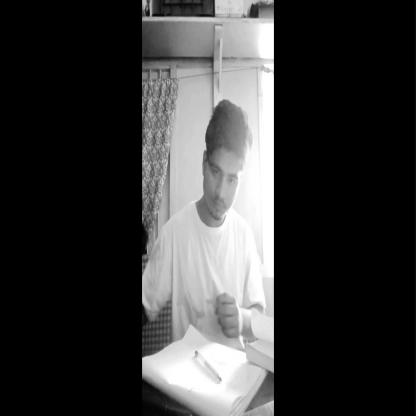Normal: (197, 96, 252, 220)
